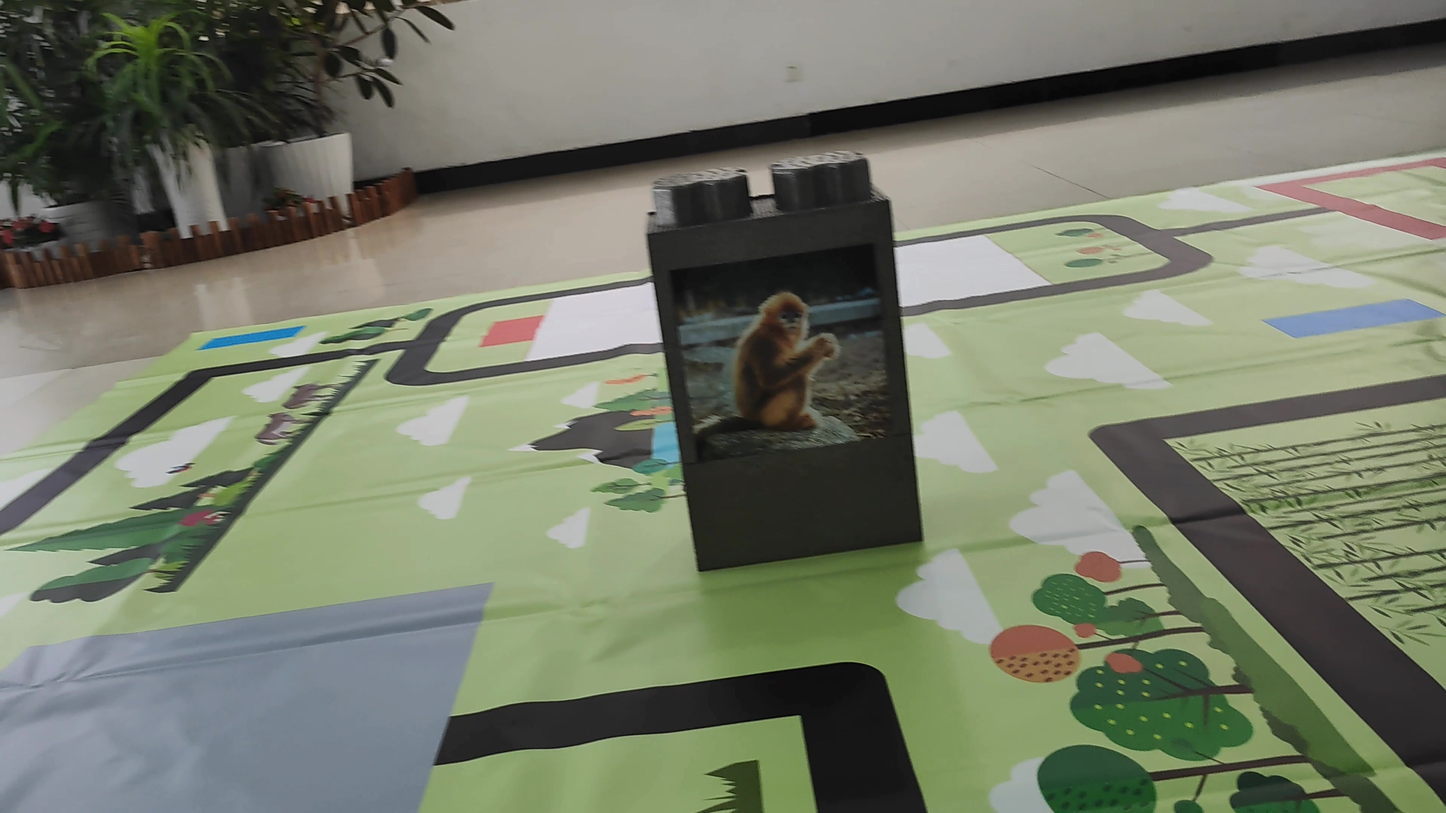monkey: (682, 275, 869, 458)
